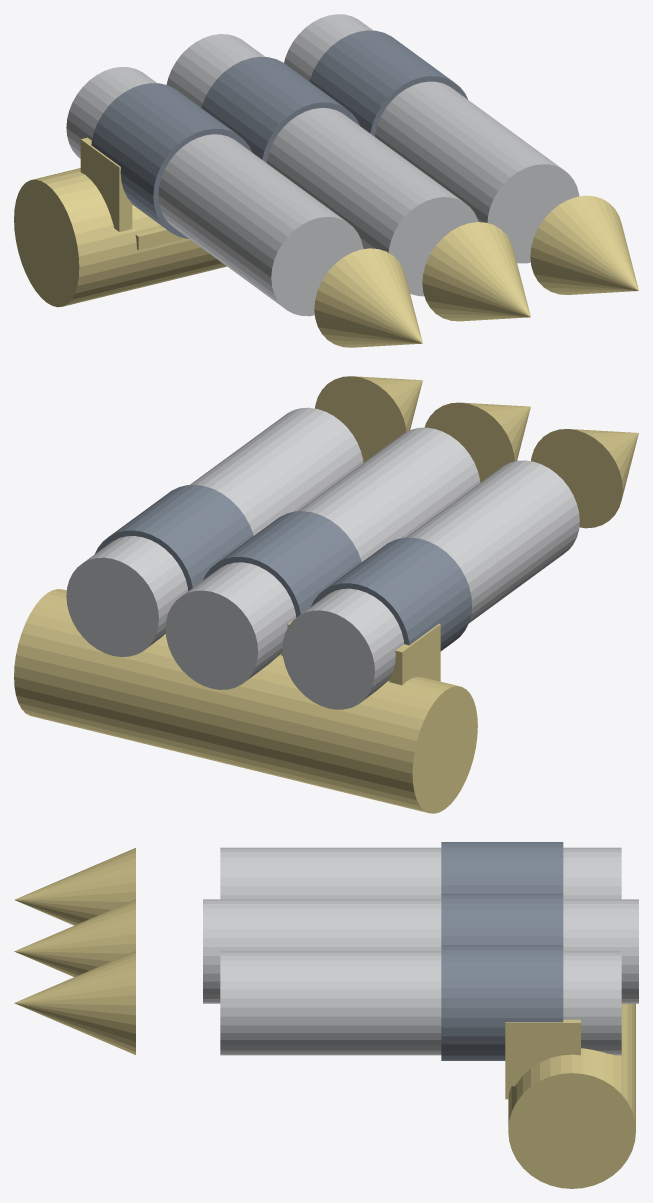
The model's file is cmt-4.glb.
3 views of the same model, one above another, from view 1: azimuth 30°, elevation 25°; view 2: azimuth 150°, elevation 25°; view 3: azimuth 270°, elevation 25° (orthographic). The views are drawn at different scales.
Visible parts, largest first — view 1: part000, part007, part014, part021, part001, part009, part002, part016, part008, part015, part003, part004; view 2: part021, part000, part007, part014, part001, part008, part015, part002, part016, part009, part003; view 3: part014, part007, part021, part000, part015, part008, part016, part001, part002, part009, part019.
Part boxes in pixels (x1,y1,x2,y2): part000: (66, 67, 363, 316); part007: (166, 34, 478, 296); part014: (284, 14, 579, 263); part021: (14, 168, 226, 307); part001: (91, 83, 252, 238); part009: (422, 222, 530, 321); part002: (314, 248, 422, 347); part016: (530, 195, 638, 294); part008: (201, 56, 359, 162); part015: (309, 30, 467, 136); part003: (80, 137, 132, 231); part004: (135, 227, 185, 250); part021: (14, 589, 477, 813); part000: (282, 460, 579, 709); part007: (165, 427, 480, 689); part014: (66, 407, 363, 656); part001: (311, 537, 472, 651); part008: (203, 511, 361, 617); part015: (95, 485, 253, 590); part002: (531, 429, 638, 528); part016: (315, 376, 422, 462); part009: (424, 402, 530, 482); part003: (389, 623, 440, 685); part014: (220, 951, 621, 1055); part007: (203, 899, 638, 1003); part021: (508, 1003, 635, 1188); part000: (220, 847, 621, 899); part015: (441, 945, 563, 1060); part008: (441, 893, 563, 945); part016: (14, 951, 135, 1054); part001: (441, 842, 563, 893); part002: (14, 848, 135, 925); part009: (14, 899, 135, 977); part019: (505, 1019, 580, 1086).
Bounding box in the file's own units: 1.55 × 0.74 × 2.15.
